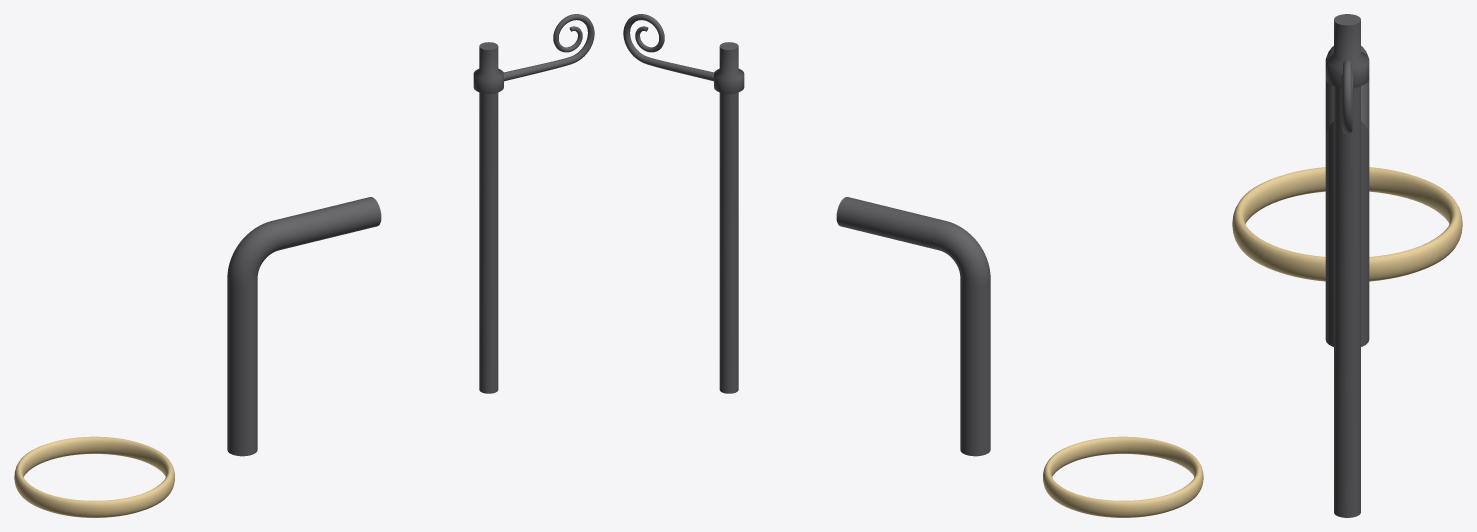
File: paths.gltf
3 renders of one model, left to right at view 1: azimuth 30°, elevation 25°; view 2: azimuth 150°, elevation 25°; view 3: azimuth 270°, elevation 25°, orthographic. The views are drawn at different scales.
Parts seen in each view (by area): view 1: pipe, post, hoop, arm; view 2: pipe, post, hoop, arm; view 3: post, hoop, pipe, arm.
Boxes of the visible parts, x1,y1,x2,y2 form: pipe: [227, 197, 381, 456]; post: [473, 42, 503, 393]; hoop: [14, 436, 174, 517]; arm: [503, 14, 594, 81]; pipe: [836, 197, 990, 456]; post: [714, 42, 744, 393]; hoop: [1043, 436, 1203, 517]; arm: [623, 14, 714, 81]; post: [1325, 14, 1369, 517]; hoop: [1232, 167, 1462, 281]; pipe: [1325, 46, 1369, 346]; arm: [1341, 60, 1353, 133].
Bounding box in the file's own units: 1.73 × 1.03 × 0.424.
